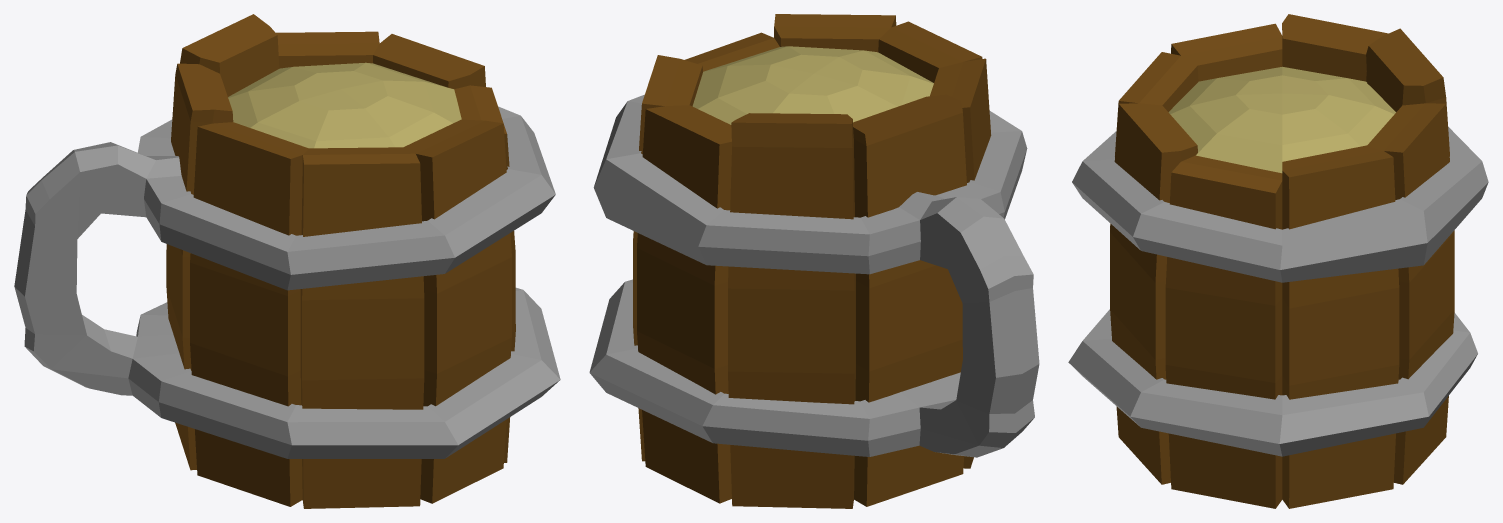
File: BeerMugFull.fbx
3 renders of one model, left to right at view 1: azimuth 30°, elevation 25°; view 2: azimuth 150°, elevation 25°; view 3: azimuth 270°, elevation 25°, orthographic. The views are drawn at different scales.
Visible parts, largest first — view 1: WoodenPart, MetalPart.001, BeerPart; view 2: WoodenPart, MetalPart.001, BeerPart; view 3: WoodenPart, MetalPart.001, BeerPart.
Boxes of the visible parts, x1,y1,x2,y2 form: WoodenPart: [166, 14, 515, 508]; MetalPart.001: [14, 106, 560, 458]; BeerPart: [228, 62, 461, 148]; WoodenPart: [633, 14, 991, 508]; MetalPart.001: [589, 94, 1039, 457]; BeerPart: [692, 46, 933, 124]; WoodenPart: [1110, 14, 1454, 508]; MetalPart.001: [1068, 126, 1488, 456]; BeerPart: [1168, 66, 1395, 173].
Bounding box in the file's own units: 28.37 × 22.1 × 23.03.
